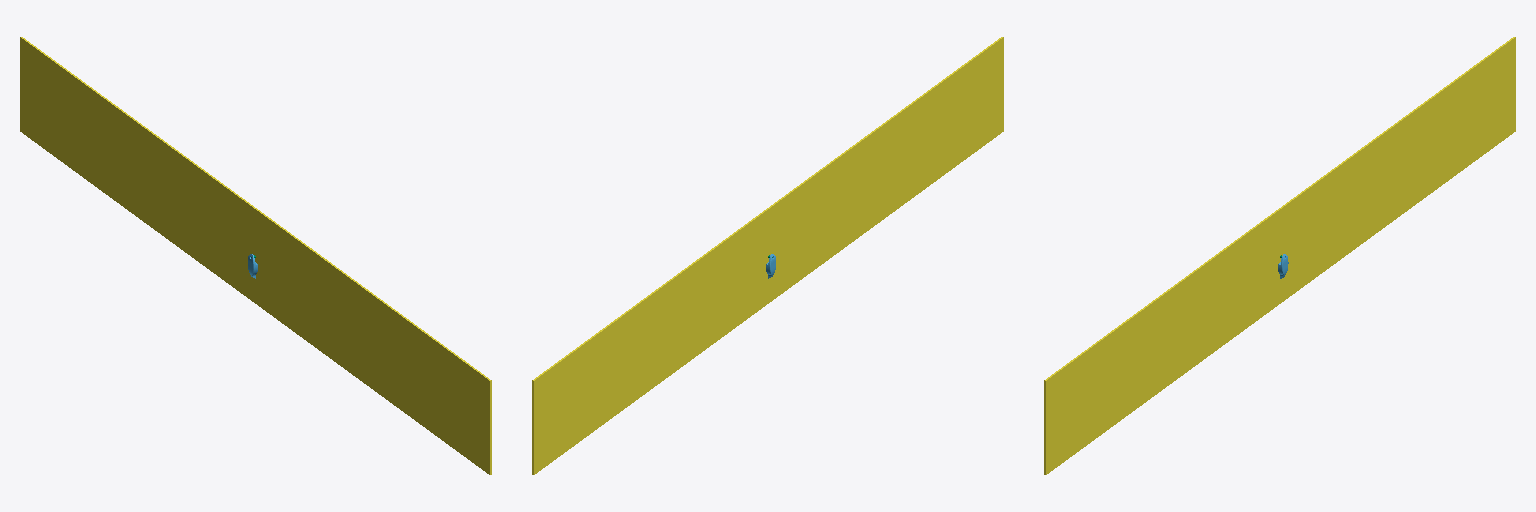
URDF robot description (dvrk_psm_tool_blande):
<?xml version="1.0" encoding="utf-8"?>
<robot name="dvrk_psm_tool_blande" xmlns:xacro="http://www.ros.org/wiki/xacro">

  <!-- This file contains different tool urdf -->

  <!-- sca  -->

    <link name="base_link">
      <visual>
        <origin rpy="0 0 0" xyz="0 0 0"/>
        <geometry>
          <box size="0.001 0.001 0.001" />
        </geometry>
      </visual>
    </link>


    <!-- joint 5: Outer wrist pitch joint -->
    <joint name="outer_wrist_pitch" type="revolute">
       <parent link="base_link"/>
      <child link="tool_wrist_sca_link"/>
      <axis xyz="0 0 1"/>
      <origin rpy="-1.5708 -1.5708 0" xyz="0 0 0"/>
      <limit lower="-1.5707" upper="1.5707" velocity=".4" effort="1000"/>
    </joint>

    <!-- link 5: tool_wrist_sca_link -->
    <link name="tool_wrist_sca_link">
      <visual>
        <!-- <origin rpy="0 3.1416 0" xyz="0 0 0"/> -->
        <origin rpy="1.5708 3.1416 0" xyz="0.0051 0.0032 0"/>
        <geometry>
          <mesh filename="package://dvrk_model/meshes/psm/tool_wrist_sca_link.stl"/>
        </geometry>
      </visual>
      <collision>
        <!-- <origin rpy="0 3.1416 0" xyz="0 0 0"/> -->
        <origin rpy="1.5708 3.1416 0" xyz="0.0051 0.0032 0"/>
        <geometry>
          <mesh filename="package://dvrk_model/meshes/psm/tool_wrist_sca_link.stl"/>
        </geometry>
      </collision>
    </link>

    <!-- joint 6: Outer wrist yaw joint -->
    <joint name="outer_wrist_yaw" type="revolute">
      <parent link="tool_wrist_sca_link"/>
      <child link="tool_wrist_sca_shaft_link"/>
      <axis xyz="0 0 1"/>
      <origin rpy="-1.5708 -1.5708 0" xyz="0.0091 0 0"/>
      <!-- +/- 80 deg -->
      <limit lower="-1.3963" upper="1.3963" velocity=".4" effort="1000"/>
    </joint>

    <!-- link 6: tool_wrist_sca_shaft_link -->
    <link name="tool_wrist_sca_shaft_link">
      <visual>
        <origin rpy="0 0 0" xyz="0 -0.0002 -0.0025"/>
        <geometry>
          <mesh filename="package://dvrk_model/meshes/psm/tool_wrist_sca_shaft_link.stl"/>
        </geometry>
      </visual>
      <collision>
        <origin rpy="0 0 0" xyz="0 -0.0002 -0.0025"/>
        <geometry>
          <mesh filename="package://dvrk_model/meshes/psm/tool_wrist_sca_shaft_link.stl"/>
        </geometry>
      </collision>
    </link>

    <!-- joint 7-0: Outer open angle 1  -->
    <joint name="jaw" type="revolute">
      <parent link="tool_wrist_sca_shaft_link"/>
      <child link="tool_wrist_sca_ee_link_0"/>
      <axis xyz="0 1 0"/>
      <origin rpy="0 0 0" xyz="0 0 0"/>
      <limit lower="0" upper="1.5707" velocity=".4" effort="1000"/>
    </joint>

    <!-- link 7-0: Outer open angle virtual -->
    <link name="tool_wrist_sca_ee_link_0">
      <visual>
        <origin rpy="0 0 0" xyz="0 0 0"/>
        <geometry>
          <box size="0.45 0.05 0.001" />
        </geometry>
      </visual>
      <collision>
        <origin rpy="0 0 0" xyz="0 0 0"/>
        <geometry>
          <box size="0.45 0.05 0.001" />
        </geometry>
      </collision>
    </link>

 
    <!-- tool tip -->
    <joint name="tool_tip" type="fixed">
      <parent link="tool_wrist_sca_shaft_link"/>
      <child link="tool_tip_link"/>
      <origin rpy="0 1.5708 1.5708" xyz="0 0.45 0"/>
    </joint>
    <link name="tool_tip_link"/>

</robot>

--- What the picture shows (computed from the rendered views, not written in the file) ---
3 views of the same robot in one strip: view 1: azimuth 30°, elevation 25°; view 2: azimuth 150°, elevation 25°; view 3: azimuth 330°, elevation 25° (orthographic).
Robot: dvrk_psm_tool_blande — 5 links, 4 joints (3 revolute, 1 fixed); root link base_link; default pose: every joint at zero.
Links seen in each view (by area): view 1: tool_wrist_sca_ee_link_0; view 2: tool_wrist_sca_ee_link_0; view 3: tool_wrist_sca_ee_link_0.
Link boxes in pixels (box(x1,y1,x2,y2)): tool_wrist_sca_ee_link_0: box(20, 37, 491, 474); tool_wrist_sca_ee_link_0: box(532, 37, 1003, 474); tool_wrist_sca_ee_link_0: box(1044, 37, 1515, 474).
Size in the robot's own frame: 0.0063 by 0.45 by 0.05 metres.
2 mesh visuals loaded from 2 distinct referenced files (2 binary STL).